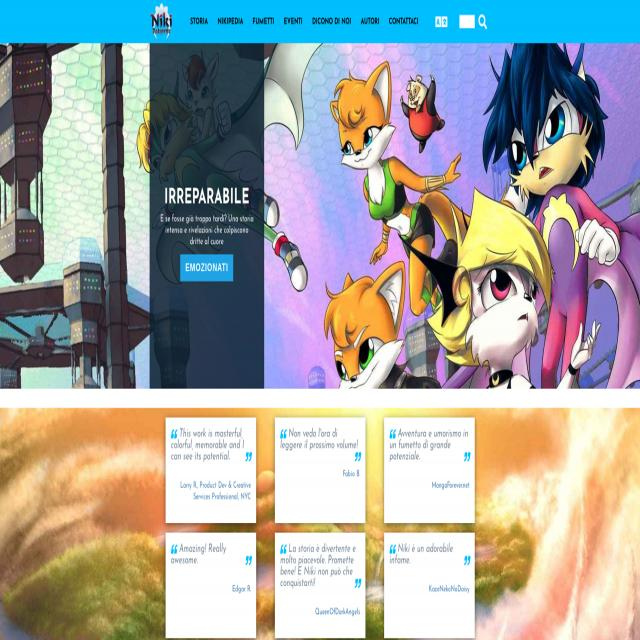button: (274, 417, 366, 522), (166, 417, 256, 524), (384, 418, 475, 523), (275, 531, 365, 637), (384, 533, 474, 639), (166, 534, 256, 638), (180, 254, 234, 282), (150, 0, 173, 43), (308, 13, 357, 31), (383, 12, 424, 30), (248, 10, 279, 32), (215, 12, 246, 34), (183, 12, 213, 34), (280, 12, 306, 32), (358, 12, 382, 33), (475, 16, 491, 27), (435, 15, 447, 28)
field: (459, 14, 475, 29)
